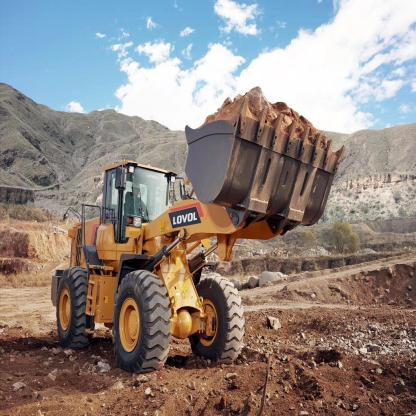bull_dozer/loader/grader: (48, 73, 347, 380)
